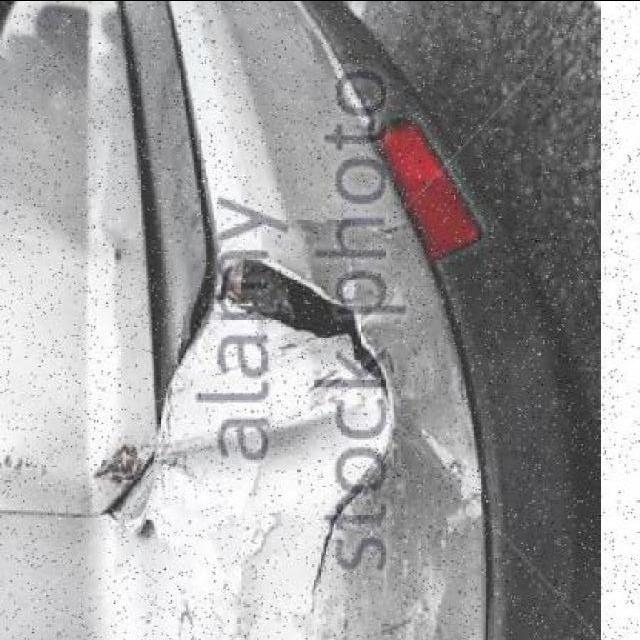rear-bumper-dent: (103, 8, 534, 640)
